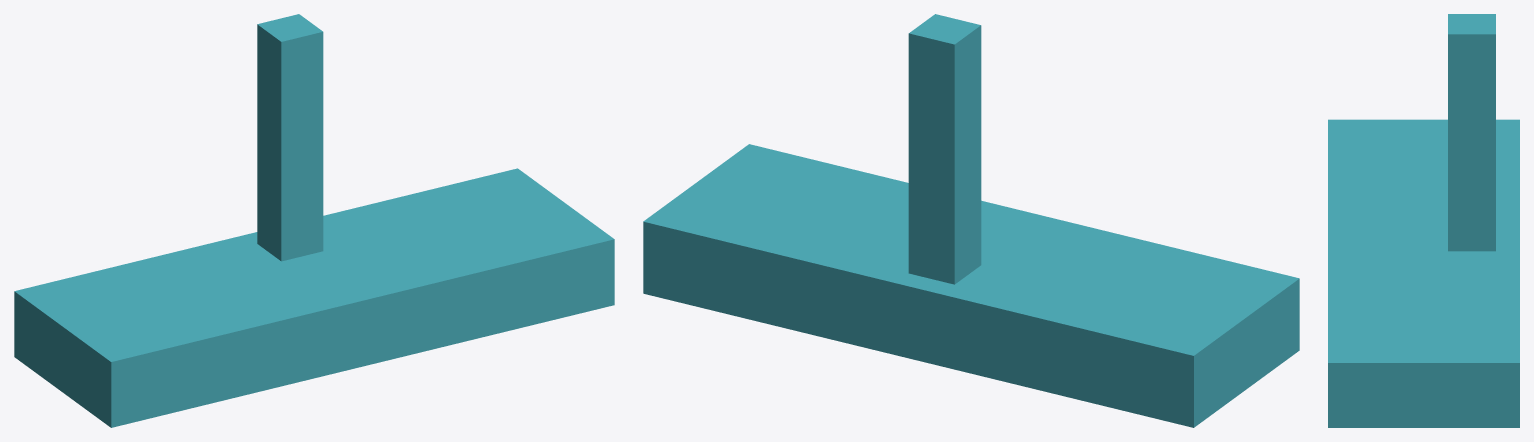
Rendered from FountainWallWater.fbx.
3 views of the same model, side by side, from view 1: azimuth 30°, elevation 25°; view 2: azimuth 150°, elevation 25°; view 3: azimuth 270°, elevation 25° (orthographic). The views are drawn at different scales.
Visible parts, largest first — view 1: FountainWallWater; view 2: FountainWallWater; view 3: FountainWallWater.
Part boxes in pixels (bbox=[...]): FountainWallWater: bbox=[14, 14, 614, 427]; FountainWallWater: bbox=[643, 14, 1299, 427]; FountainWallWater: bbox=[1328, 14, 1519, 427].
Size of the model in its own units: 240 by 130 by 80.
